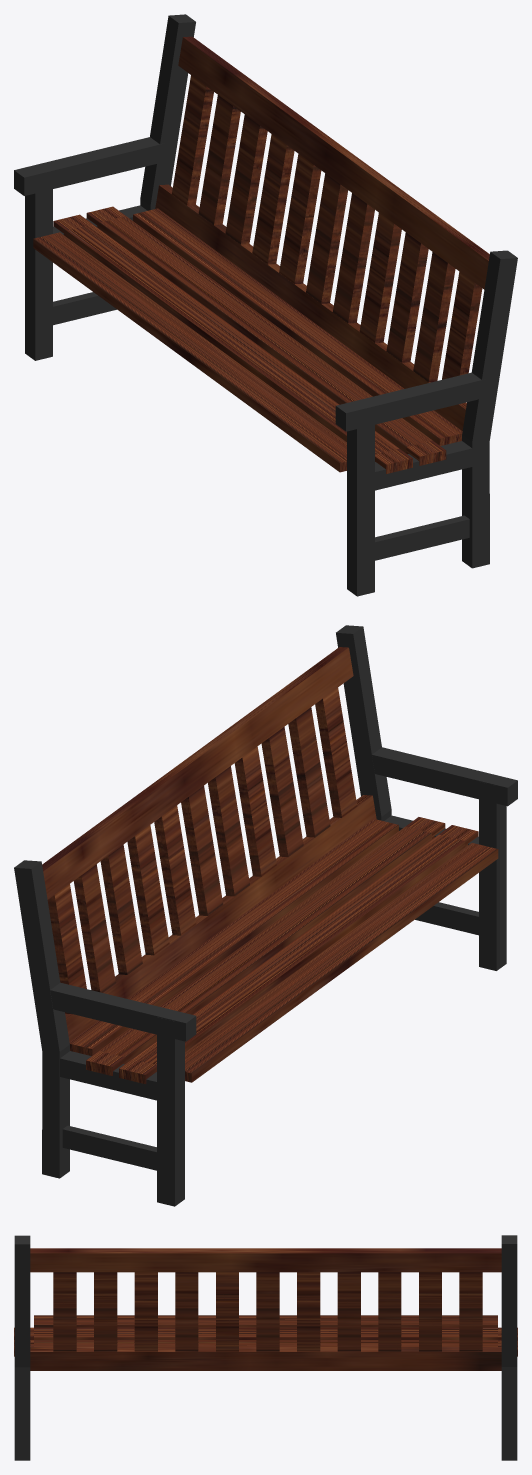
The model's file is parkbench_final.glb.
3 renders of one model, top to bottom at view 1: azimuth 30°, elevation 25°; view 2: azimuth 150°, elevation 25°; view 3: azimuth 270°, elevation 25°, orthographic. The views are drawn at different scales.
Visible parts, largest first — view 1: parkbench; view 2: parkbench; view 3: parkbench.
Part boxes in pixels (<box>): parkbench: <box>14,14,517,596</box>; parkbench: <box>14,625,517,1206</box>; parkbench: <box>14,1235,517,1460</box>.
Bounding box in the file's own units: 0.9721 × 1.63 × 3.26.
Materials: 2 (1 with a texture image).
